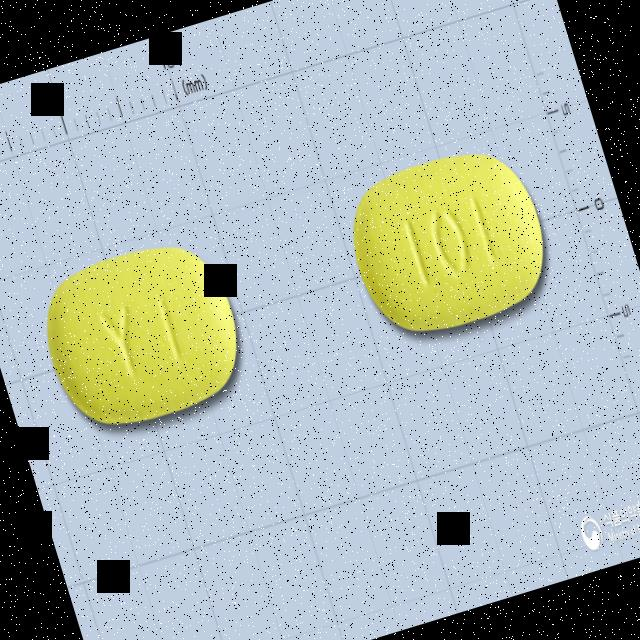Youngil Clarithromycin Tab: (28, 228, 256, 442), (336, 136, 562, 348)
